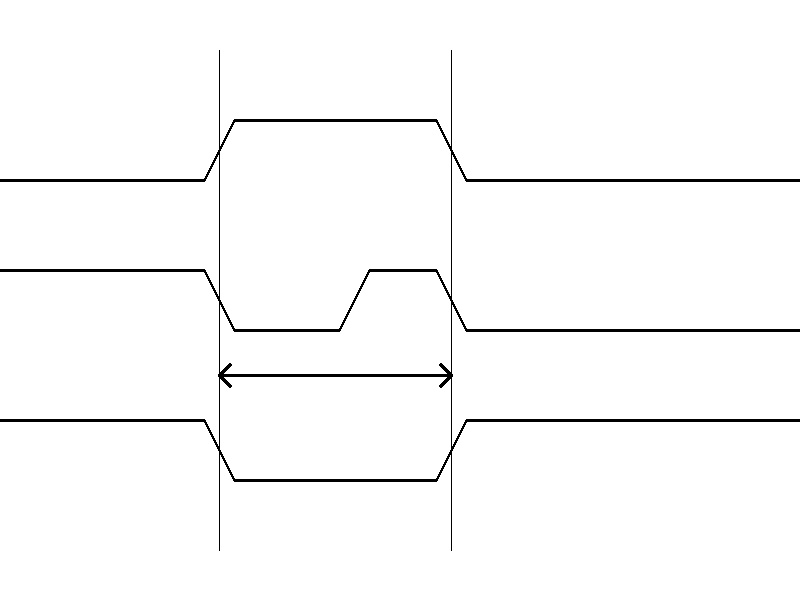double_arrow: (219, 360, 451, 390)
